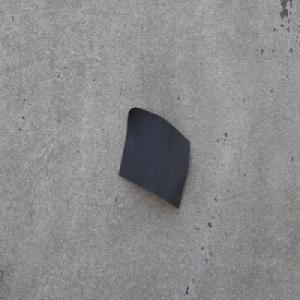PaintChip: (117, 104, 191, 209)
